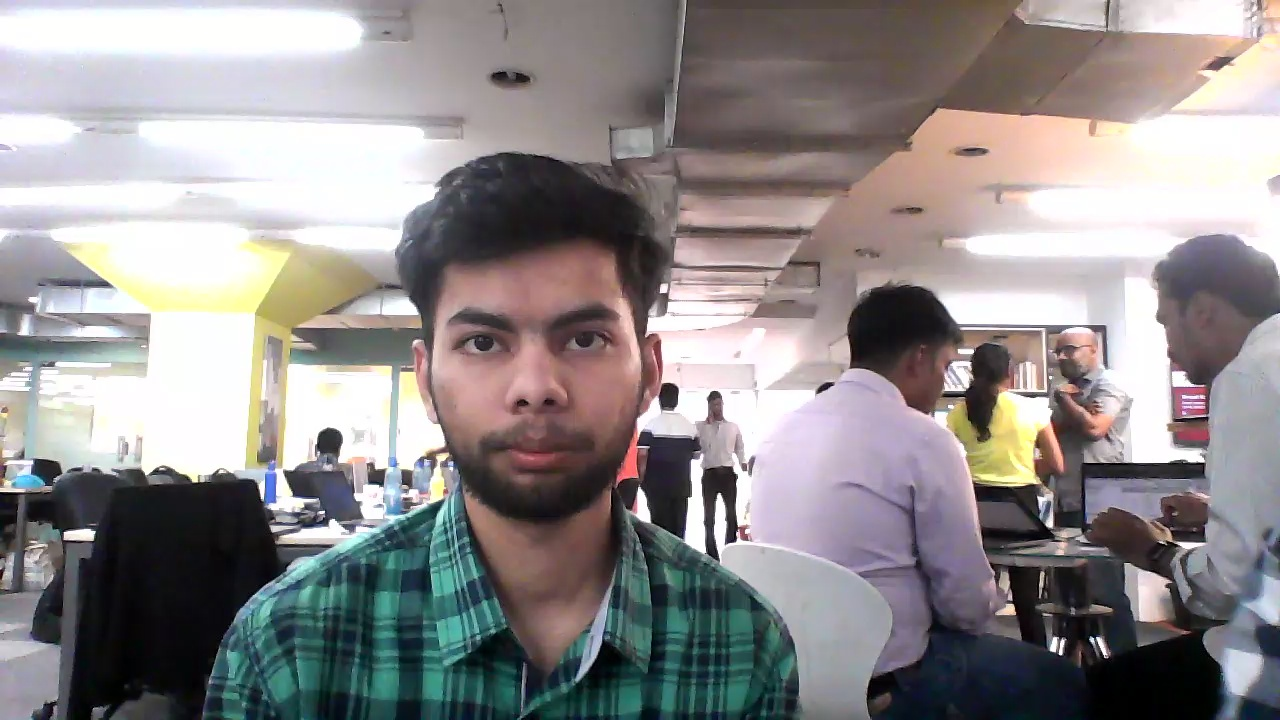open: (395, 148, 652, 532)
